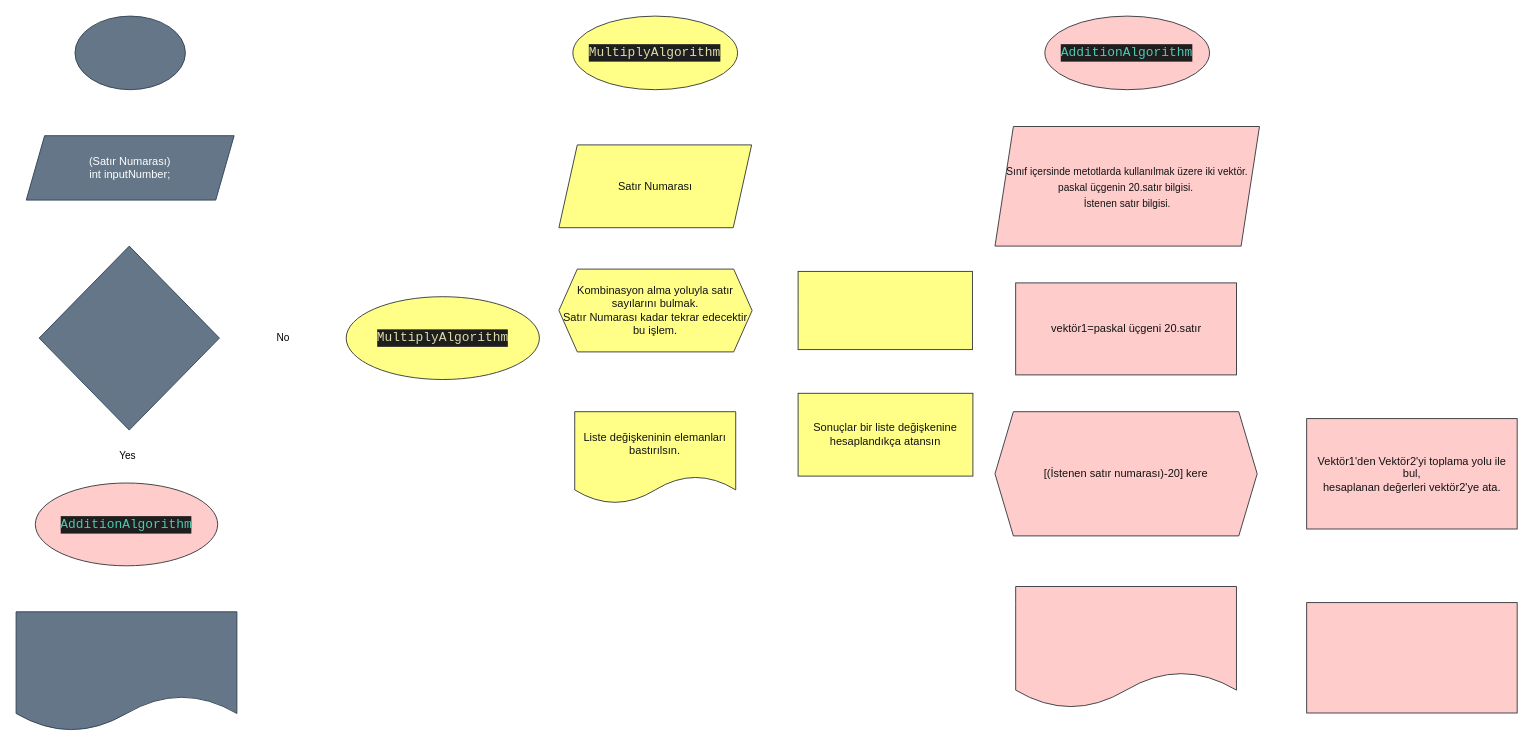
Some shapes in this 1534 by 748 pixel diagram are drawn without their labels. Each missing label, with the centre of its shape:
"inputNumber>20" belongs at pixel 128 337.
"Kombinasyon" belongs at pixel 884 310.
"print results" belongs at pixel 126 671.
"start" belongs at pixel 129 52.
"Vektör1 ve Vektör2'yi yer değiştir. Vektör2'yi temizle." belongs at pixel 1411 657.
"Vektör1'i bastır." belongs at pixel 1125 647.
